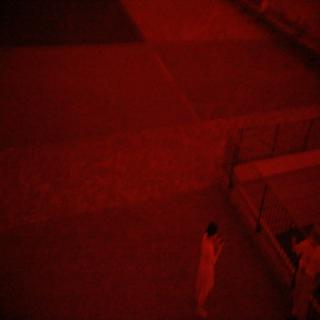person: (189, 213, 226, 320)
